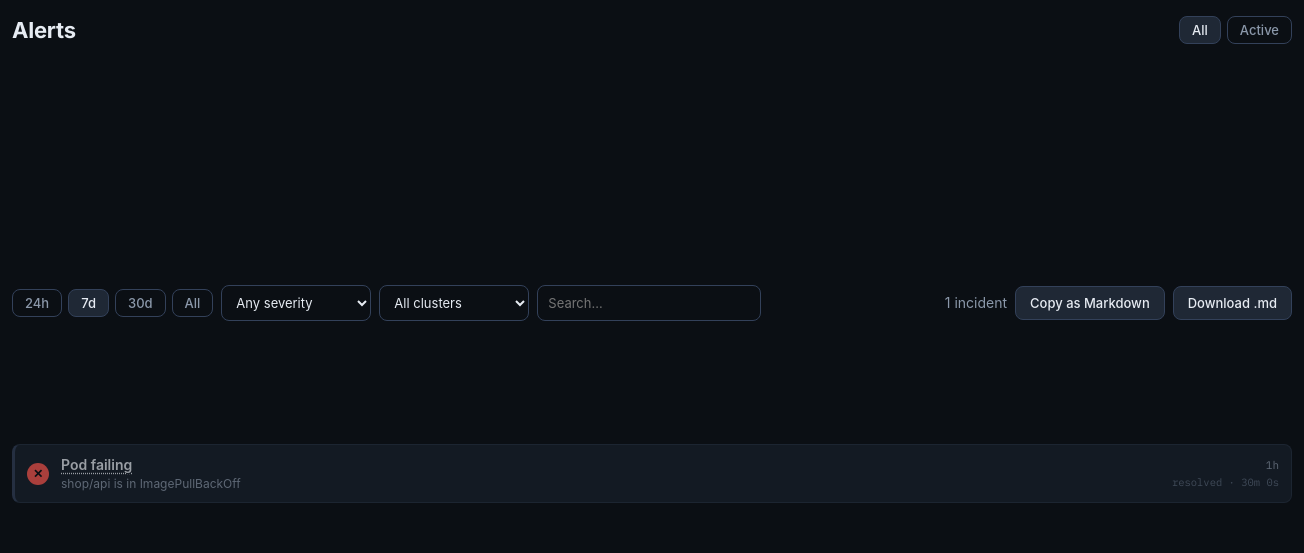
it: the alerts page › says so when nothing matches
In the field labelled "Search": x=649, y=303 [537,285,761,321], type "zzz"
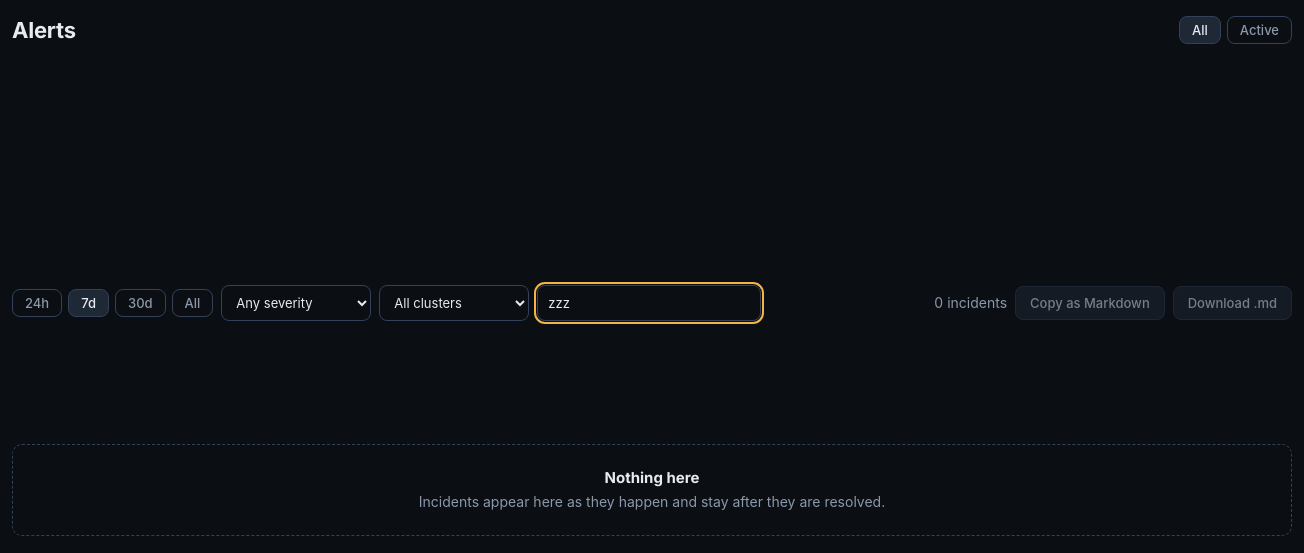
Check: the text "Nothing here" is shown, box [604,468,699,487]
Check: the button "Copy as Markdown" is disabled, box [1015,286,1165,320]
